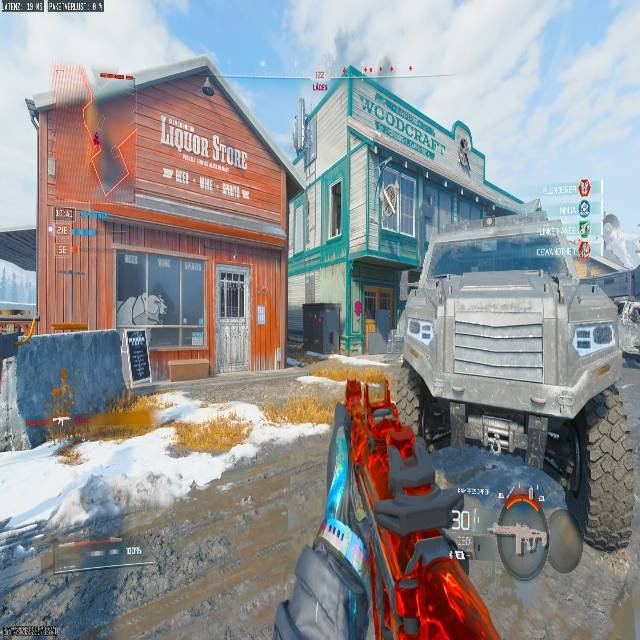head: (150, 284, 166, 298)
